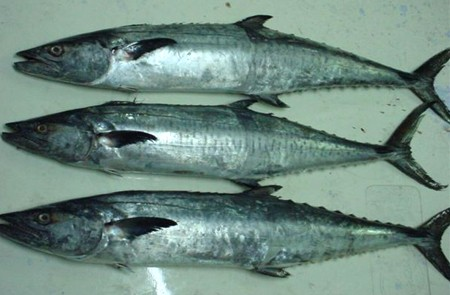Surmai: (1, 189, 448, 283), (2, 101, 441, 189), (11, 16, 446, 103)
